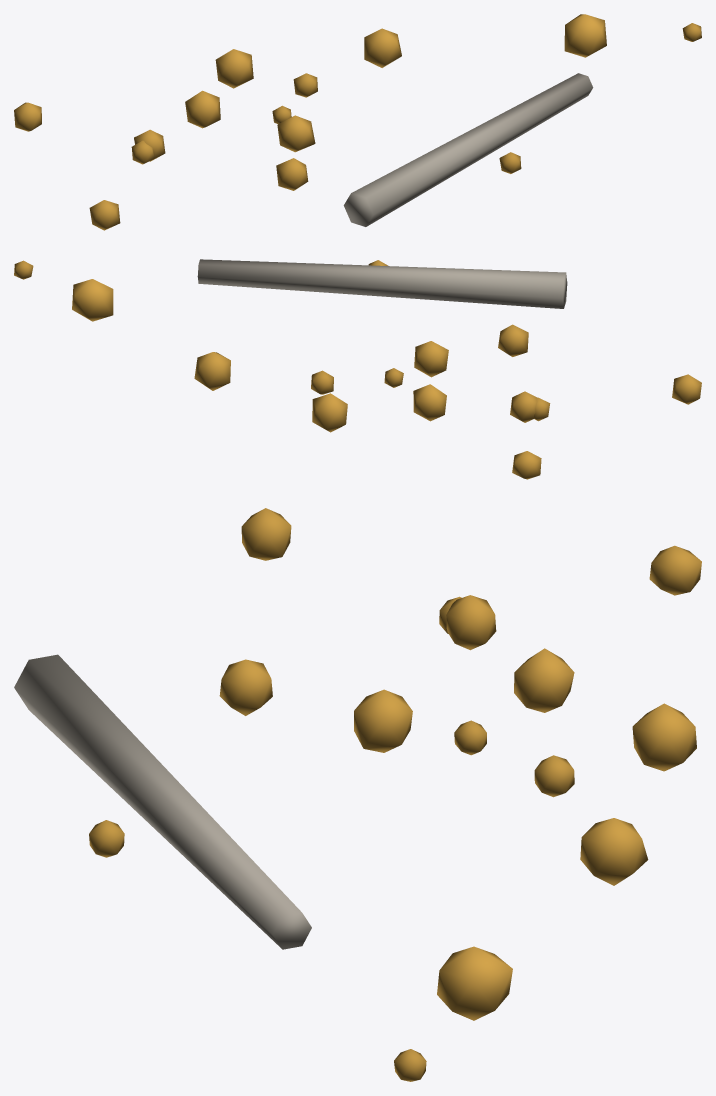
File: amber.glb
The picture shows the model from 3 angles, top to bottom: view 1: azimuth 30°, elevation 25°; view 2: azimuth 150°, elevation 25°; view 3: azimuth 270°, elevation 25°; orthographic projection. The views are drawn at different scales.
Visible parts, largest first — view 1: amber; view 2: amber; view 3: amber.
Part boxes in pixels (x1,y1,x2,y2): amber: (14,14,701,230); amber: (14,259,701,479); amber: (14,508,701,1081).
Size of the model in its own units: 4.84 by 0.3133 by 2.58.
